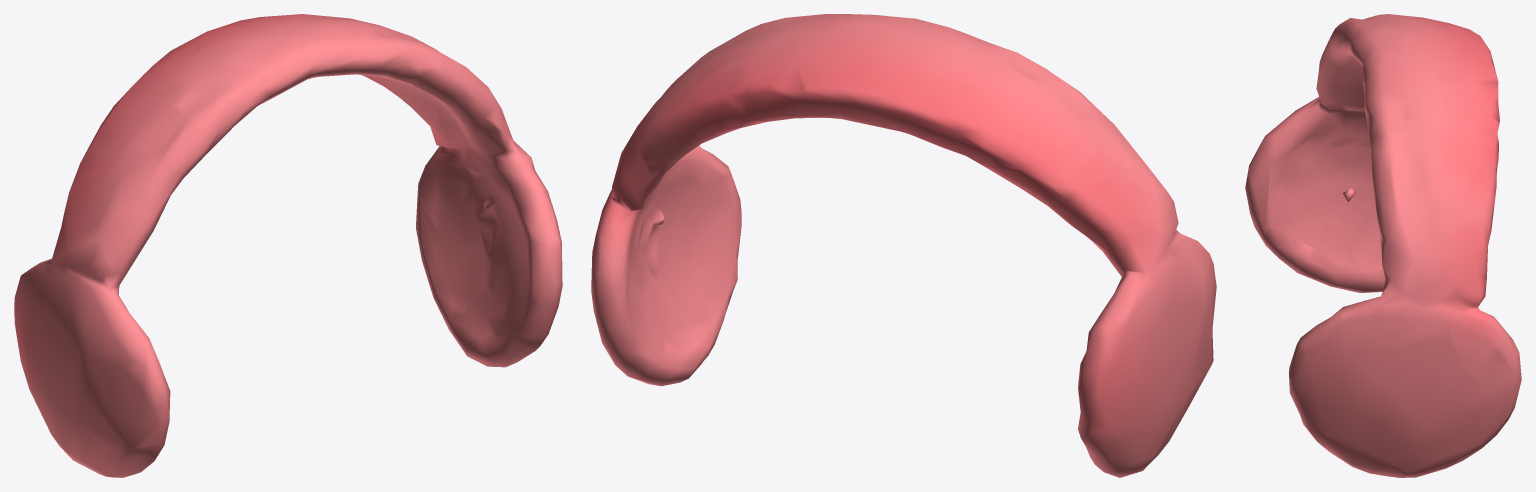
File: pink headphones.glb
The picture shows the model from 3 angles, left to right: view 1: azimuth 30°, elevation 25°; view 2: azimuth 150°, elevation 25°; view 3: azimuth 270°, elevation 25°; orthographic projection. The views are drawn at different scales.
Visible parts, largest first — view 1: headphones_pink.001; view 2: headphones_pink.001; view 3: headphones_pink.001.
Part boxes in pixels (box(x1,y1,x2,y2)): headphones_pink.001: box(14, 14, 562, 477); headphones_pink.001: box(591, 14, 1216, 477); headphones_pink.001: box(1245, 14, 1521, 477).
Size of the model in its own units: 0.3822 by 0.2794 by 0.2016.
Materials: 1 (1 with a texture image).
